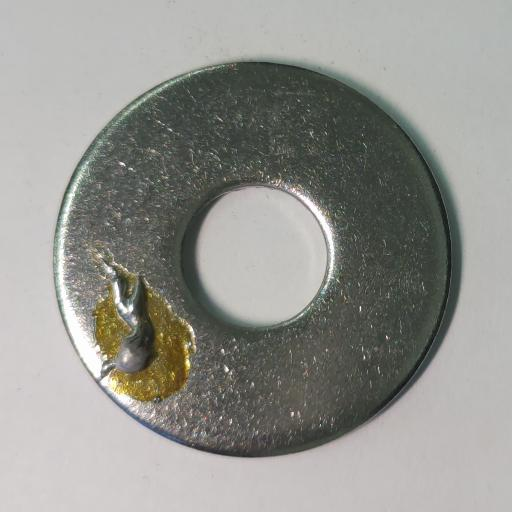excess_material: (101, 261, 152, 380)
